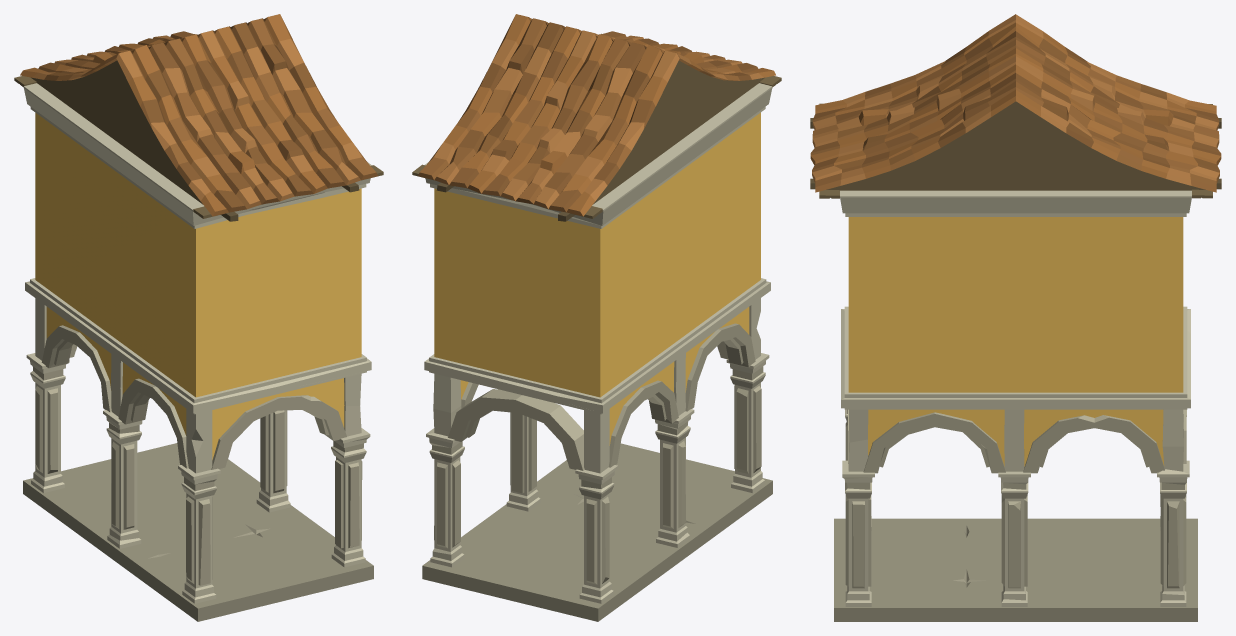
Rendered from BuildingBase_9.fbx.
3 views of the same model, side by side, from view 1: azimuth 30°, elevation 25°; view 2: azimuth 150°, elevation 25°; view 3: azimuth 270°, elevation 25° (orthographic). The views are drawn at different scales.
Visible parts, largest first — view 1: BuildingBase_9; view 2: BuildingBase_9; view 3: BuildingBase_9.
Boxes of the visible parts, <box> form: BuildingBase_9: <box>14,14,383,621</box>; BuildingBase_9: <box>412,14,781,621</box>; BuildingBase_9: <box>810,14,1221,621</box>.
Size of the model in its own units: 357 by 952 by 677.
